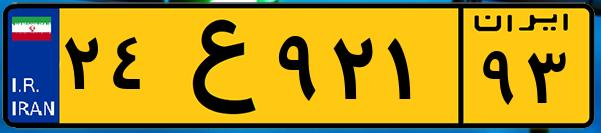1: (385, 28, 445, 110)
2: (330, 28, 385, 110), (57, 26, 110, 100)
3: (525, 38, 570, 115)
4: (110, 28, 158, 98)
9: (270, 28, 330, 110), (475, 38, 525, 113)
ع: (158, 12, 270, 120)
